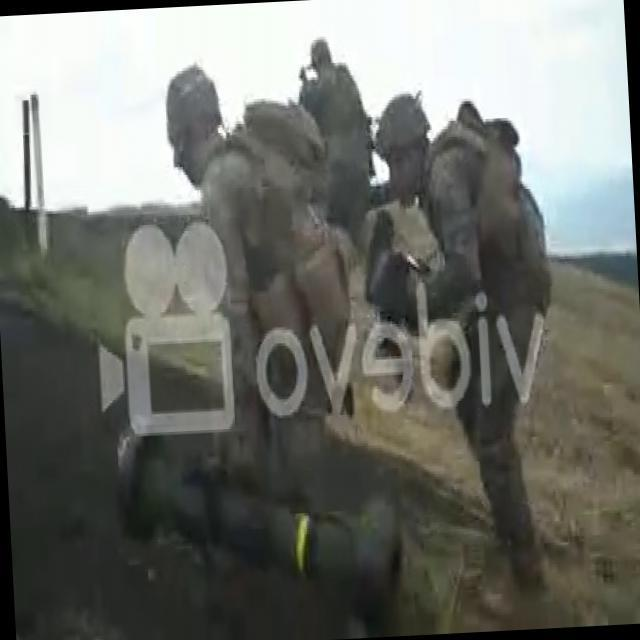rocket: (119, 412, 401, 616)
